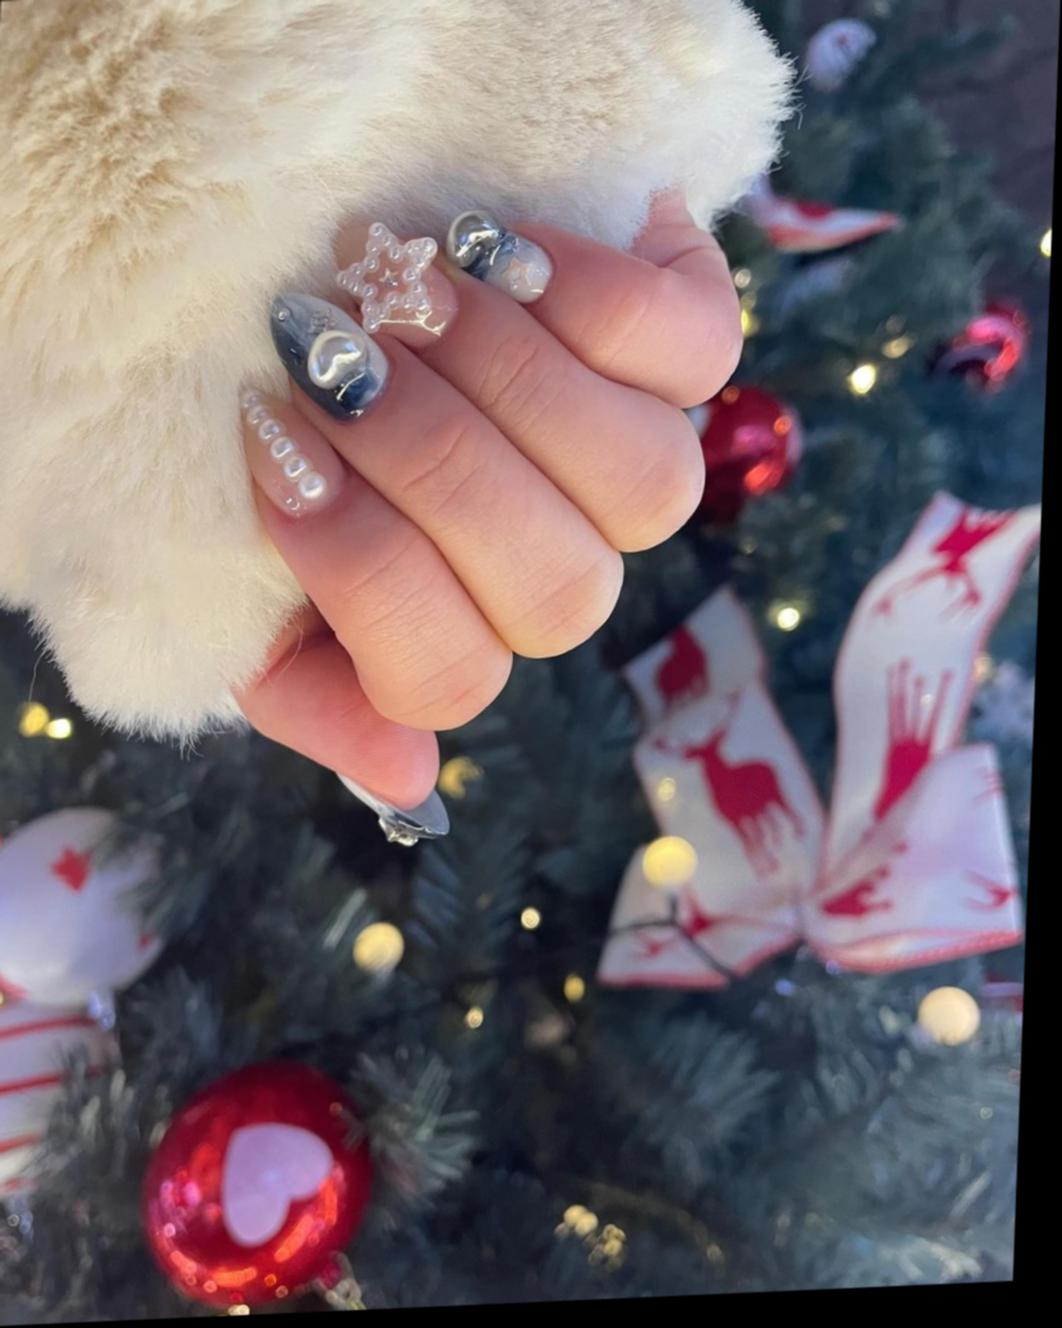nail: (262, 285, 392, 427), (441, 205, 556, 309), (329, 765, 452, 851)
